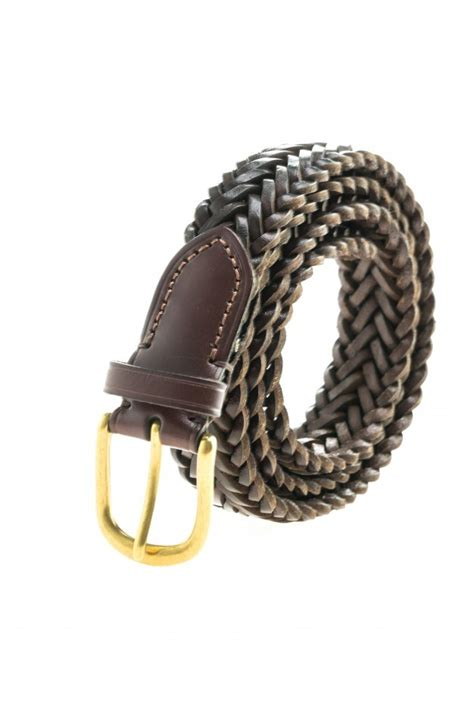cuero: (103, 228, 256, 451)
